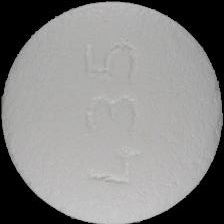70786-0435: (0, 0, 224, 224)
